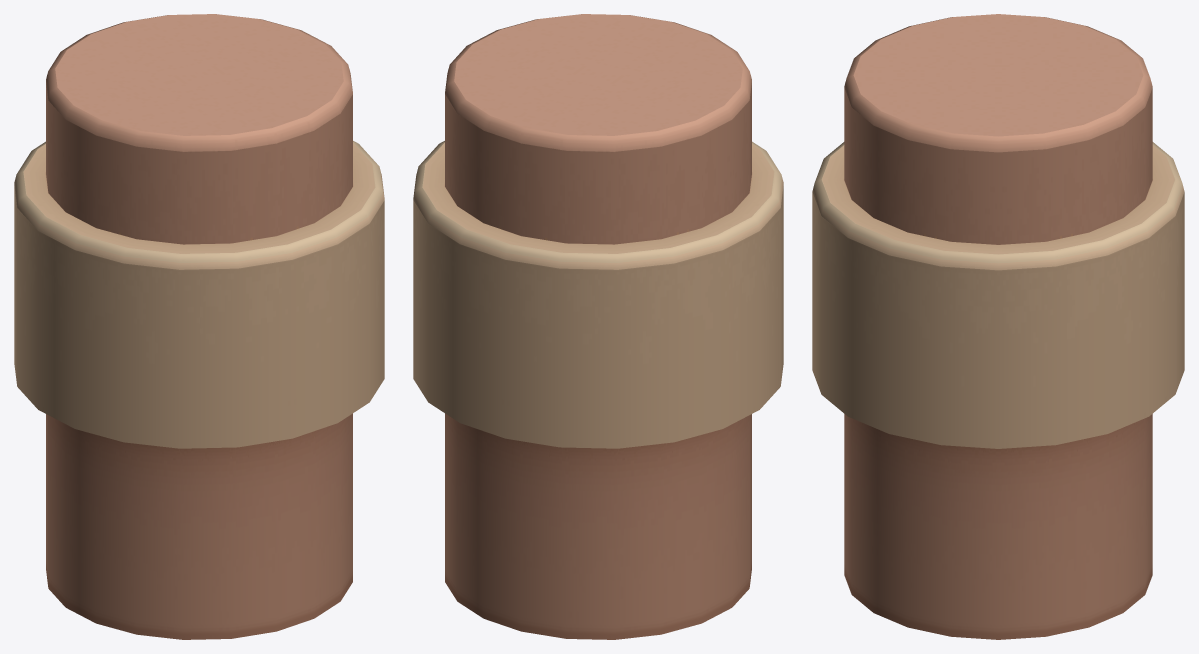
The model's file is Props.fbx.
The picture shows the model from 3 angles, left to right: view 1: azimuth 30°, elevation 25°; view 2: azimuth 150°, elevation 25°; view 3: azimuth 270°, elevation 25°; orthographic projection.
Visible parts, largest first — view 1: Cylinder-2; view 2: Cylinder-2; view 3: Cylinder-2.
Boxes of the visible parts, <box> form: Cylinder-2: <box>14,14,384,639</box>; Cylinder-2: <box>413,14,783,639</box>; Cylinder-2: <box>812,14,1184,639</box>.
Size of the model in its own units: 3.38 by 5 by 3.38.
